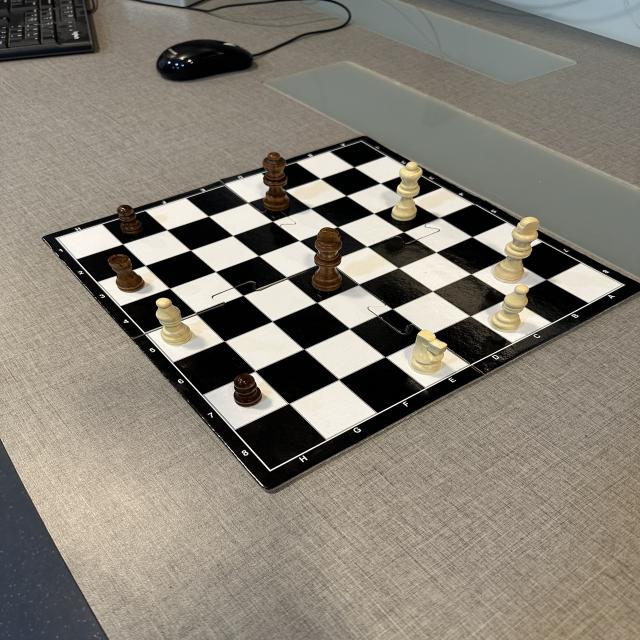Black-King: (311, 227, 343, 292)
Black-Pawn: (233, 374, 263, 407), (117, 205, 144, 235)
Black-Queen: (262, 152, 291, 211)
Black-Rook: (108, 254, 144, 293)
White-Bishop: (490, 284, 530, 332), (155, 298, 192, 346)
White-King: (492, 216, 539, 283)
White-Knight: (409, 329, 447, 375)
White-Queen: (391, 161, 423, 222)
